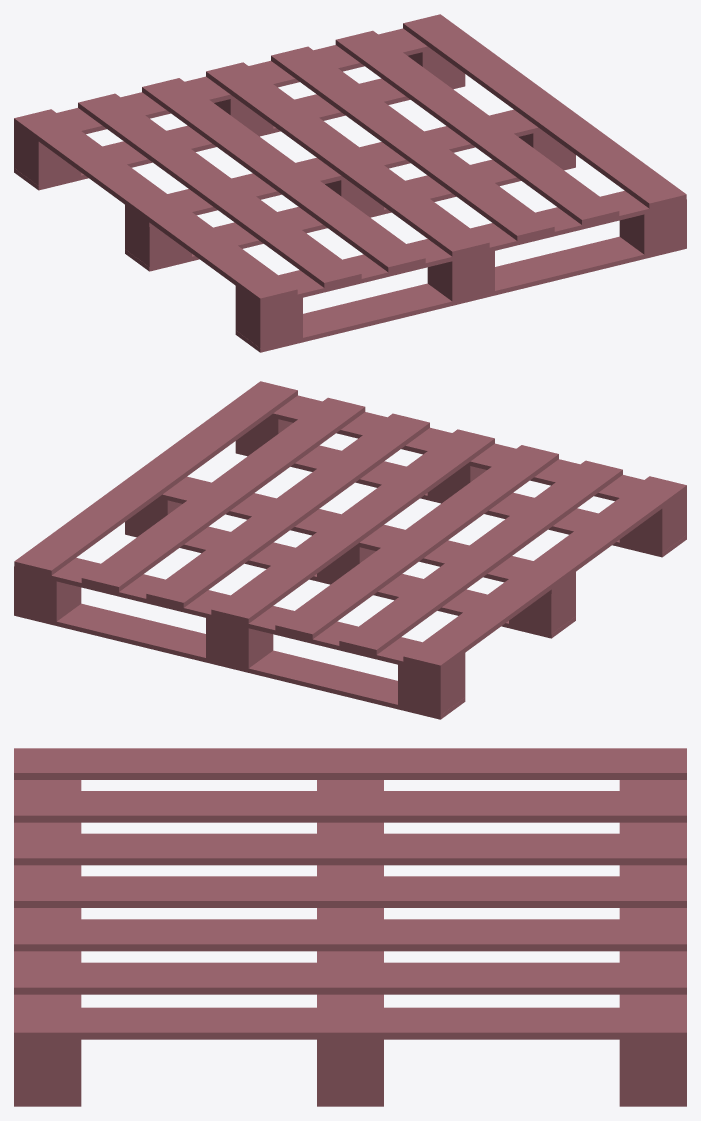
Rendered from pallet-1.glb.
3 renders of one model, top to bottom at view 1: azimuth 30°, elevation 25°; view 2: azimuth 150°, elevation 25°; view 3: azimuth 270°, elevation 25°, orthographic. The views are drawn at different scales.
Parts seen in each view (by area): view 1: pallet-1; view 2: pallet-1; view 3: pallet-1.
Part boxes in pixels (x1,y1,x2,y2): pallet-1: (14, 14, 686, 352); pallet-1: (14, 381, 686, 719); pallet-1: (14, 748, 686, 1106).
Bounding box in the file's own units: 1 × 0.1216 × 1.
1 material, 1 textured.
